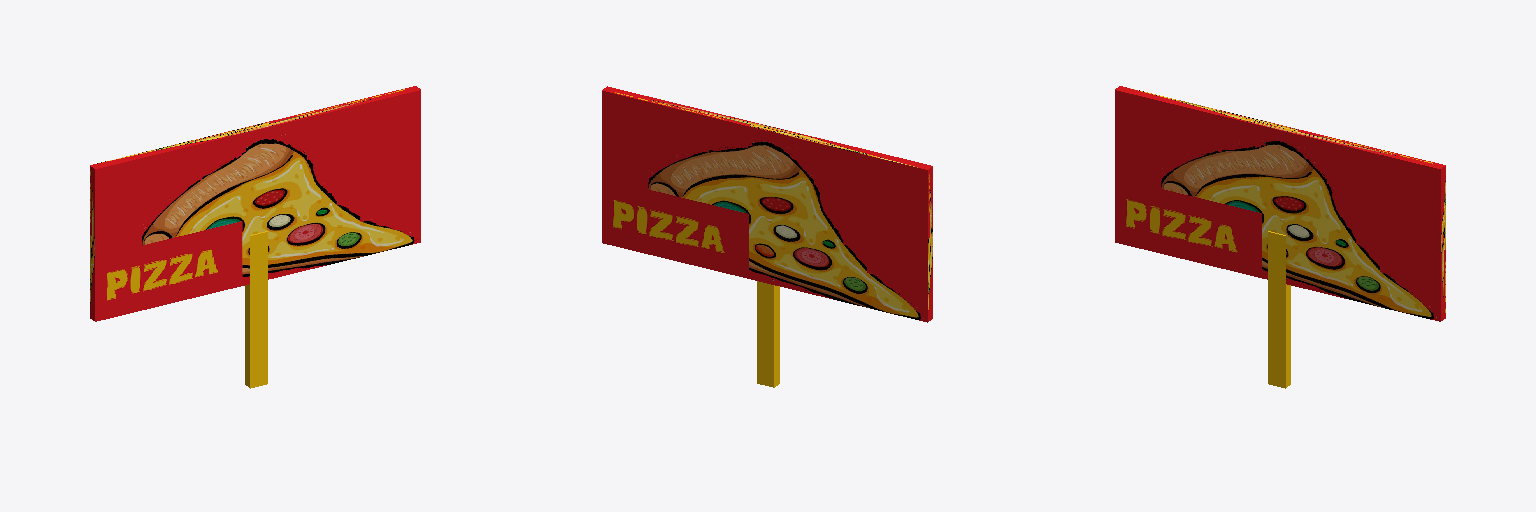
3 views of the same model, side by side, from view 1: azimuth 30°, elevation 25°; view 2: azimuth 150°, elevation 25°; view 3: azimuth 330°, elevation 25° (orthographic).
Visible parts, largest first — view 1: Box059, Box060; view 2: Box059, Box060; view 3: Box059, Box060.
Boxes of the visible parts, <box> form: Box059: <box>90,86,420,321</box>; Box060: <box>245,231,267,388</box>; Box059: <box>602,86,932,322</box>; Box060: <box>757,281,779,387</box>; Box059: <box>1115,86,1445,321</box>; Box060: <box>1268,231,1290,388</box>.
Bounding box in the file's own units: 26.88 × 20.16 × 0.9315.
2 materials, 2 textured.